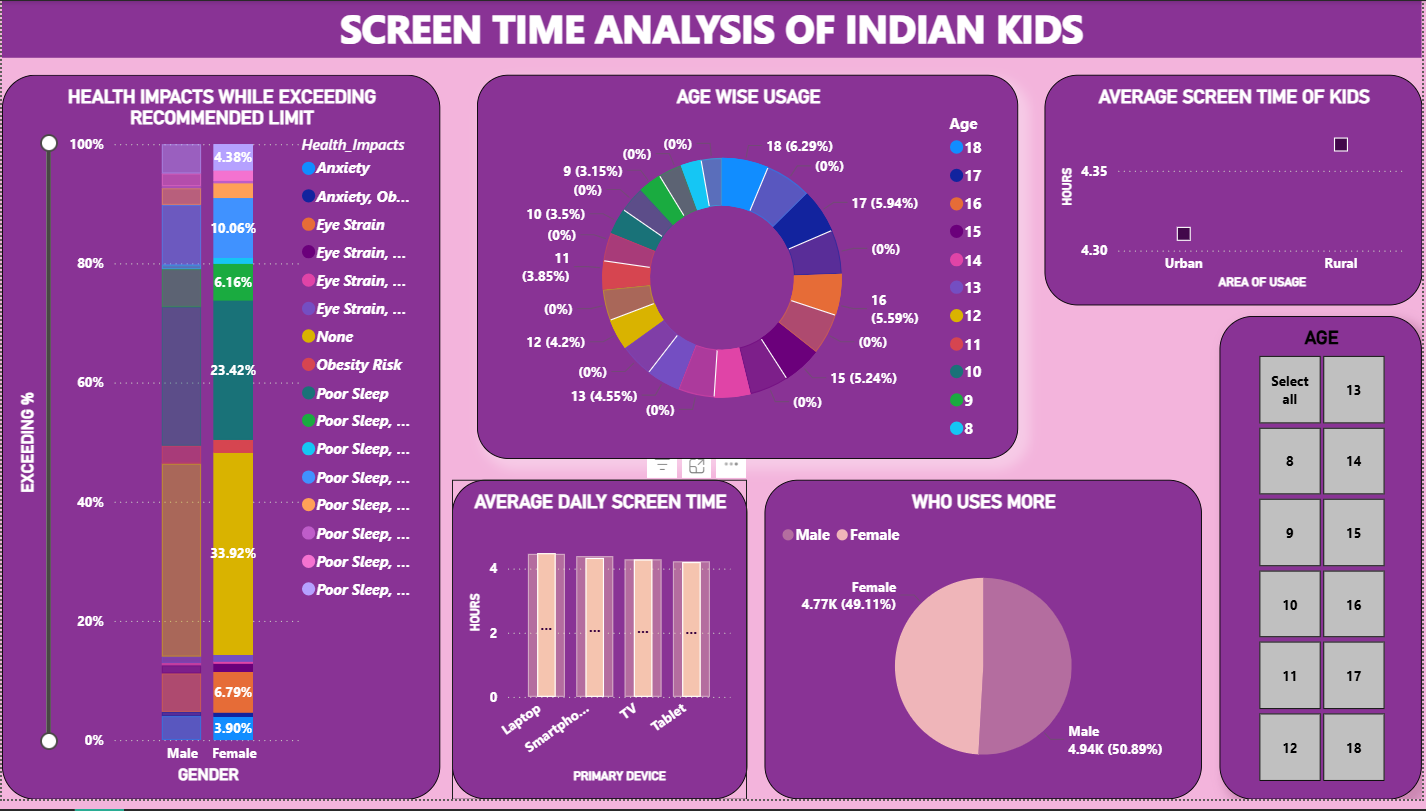

The page's visual inventory and layout, read from the dashboard file:
{"tool":"powerbi","page":{"name":"Page 1","canvas":[1280,720],"ordinal":0},"visuals":[{"type":"columnChart","title":"AVERAGE DAILY SCREEN TIME ","fields":{"Category":["Indian_Kids_Screen_Time.Primary_Device"],"Y":["Avg(Indian_Kids_Screen_Time.Avg_Daily_Screen_Time_hr)"]},"box":[405.8,431.4,266.3,288.4],"z":0},{"type":"pieChart","title":"WHO USES MORE","fields":{"Y":["CountNonNull(Indian_Kids_Screen_Time.Gender)"],"Series":["Indian_Kids_Screen_Time.Gender"],"Category":["Indian_Kids_Screen_Time.Gender"]},"box":[687.2,431.4,394.2,288.4],"z":1000},{"type":"actionButton","box":[0,0,100,40],"z":2000},{"type":"donutChart","title":"AGE WISE USAGE","fields":{"Y":["Max(Indian_Kids_Screen_Time.Age)"],"Series":["Indian_Kids_Screen_Time.Gender"],"Category":["Indian_Kids_Screen_Time.Age"]},"box":[427.9,66.3,488.4,346.5],"z":4000},{"type":"scatterChart","title":"AVERAGE SCREEN TIME OF KIDS","fields":{"X":["Indian_Kids_Screen_Time.Urban_or_Rural"],"Y":["Avg(Indian_Kids_Screen_Time.Avg_Daily_Screen_Time_hr)"]},"box":[939.5,66.3,340.7,208.1],"z":5000},{"type":"slicer","title":"AGE","fields":{"Values":["Indian_Kids_Screen_Time.Age"]},"box":[1097.7,283.7,182.6,436],"z":6000},{"type":"textbox","title":"SCREEN TIME ANALYSIS OF INDIAN KIDS","box":[0,0,1280,51],"z":7000},{"type":"hundredPercentStackedColumnChart","title":"HEALTH IMPACTS WHILE EXCEEDING RECOMMENDED LIMIT","fields":{"Y":["CountNonNull(Indian_Kids_Screen_Time.Exceeded_Recommended_Limit)"],"Category":["Indian_Kids_Screen_Time.Gender"],"Series":["Indian_Kids_Screen_Time.Health_Impacts"]},"box":[0,66.3,395.3,653.5],"z":7001}]}

Visuals, with their boxes in screenshot pixels (x1, y1, x2, y2), scaled from the page's 1280x720 canvas onto the 1426x811 screenshot:
"AVERAGE DAILY SCREEN TIME " columnChart: (x1=452, y1=486, x2=749, y2=810)
"WHO USES MORE" pieChart: (x1=766, y1=486, x2=1205, y2=810)
actionButton: (x1=0, y1=0, x2=111, y2=45)
"AGE WISE USAGE" donutChart: (x1=477, y1=75, x2=1021, y2=465)
"AVERAGE SCREEN TIME OF KIDS" scatterChart: (x1=1047, y1=75, x2=1425, y2=309)
"AGE" slicer: (x1=1223, y1=320, x2=1425, y2=810)
"SCREEN TIME ANALYSIS OF INDIAN KIDS" textbox: (x1=0, y1=0, x2=1425, y2=57)
"HEALTH IMPACTS WHILE EXCEEDING RECOMMENDED LIMIT" hundredPercentStackedColumnChart: (x1=0, y1=75, x2=440, y2=810)
